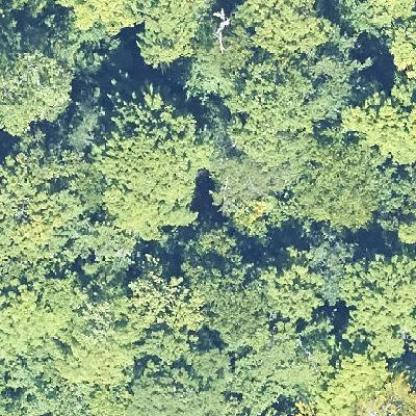tree-top: (88, 90, 214, 240), (328, 240, 415, 359), (221, 70, 324, 166), (0, 139, 90, 232), (0, 38, 78, 138), (0, 272, 79, 363), (215, 0, 337, 58), (296, 355, 413, 415), (338, 75, 415, 164), (256, 246, 330, 324), (132, 0, 209, 64)
